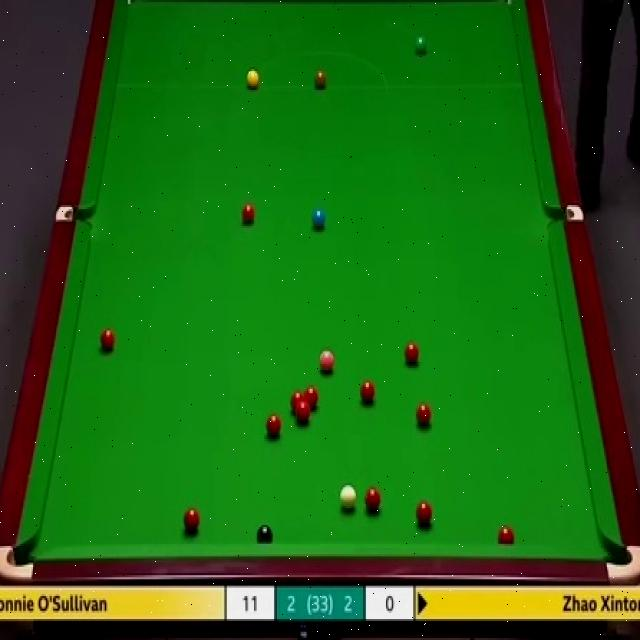black-ball: (256, 524, 275, 546)
blue-ball: (311, 209, 327, 230)
brown-ball: (314, 66, 326, 88)
green-ball: (412, 34, 427, 56)
pink-ball: (318, 350, 336, 376)
red-ball: (182, 506, 200, 535), (357, 378, 375, 404), (364, 488, 382, 514), (99, 328, 117, 354), (404, 340, 421, 367), (415, 502, 432, 526), (266, 414, 282, 439), (240, 202, 257, 225), (290, 391, 305, 417), (416, 403, 430, 430), (304, 386, 318, 412), (296, 404, 312, 425), (498, 524, 514, 544)
white-ball: (340, 486, 355, 512)
yellow-ball: (245, 70, 260, 89)
